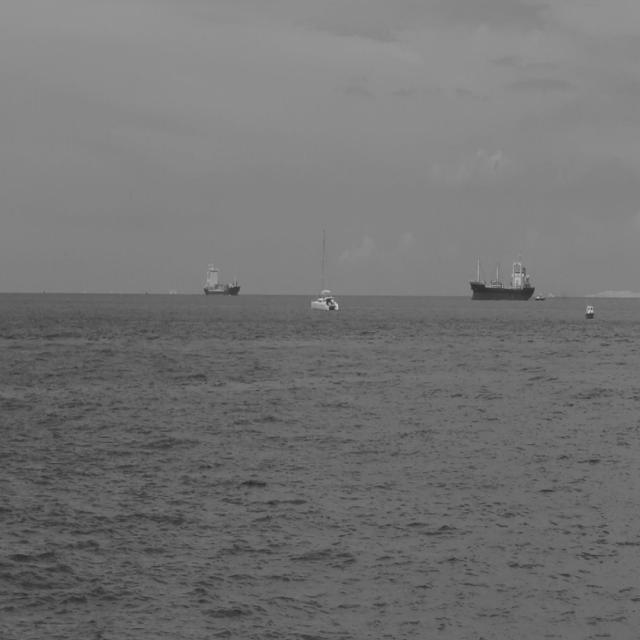boat: (310, 222, 340, 312)
ship: (467, 250, 536, 304), (202, 260, 242, 298), (584, 302, 596, 322), (534, 292, 546, 302)
